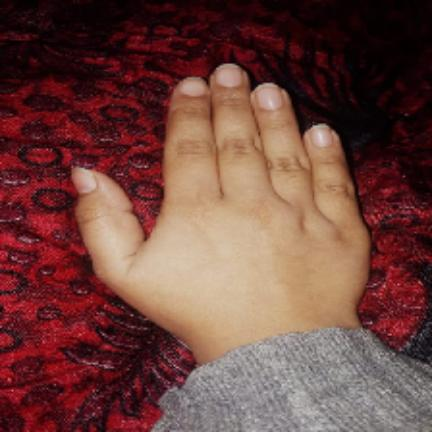Nail: (256, 84, 283, 111), (72, 167, 97, 194), (215, 64, 242, 87), (310, 123, 332, 147), (180, 77, 207, 96)
